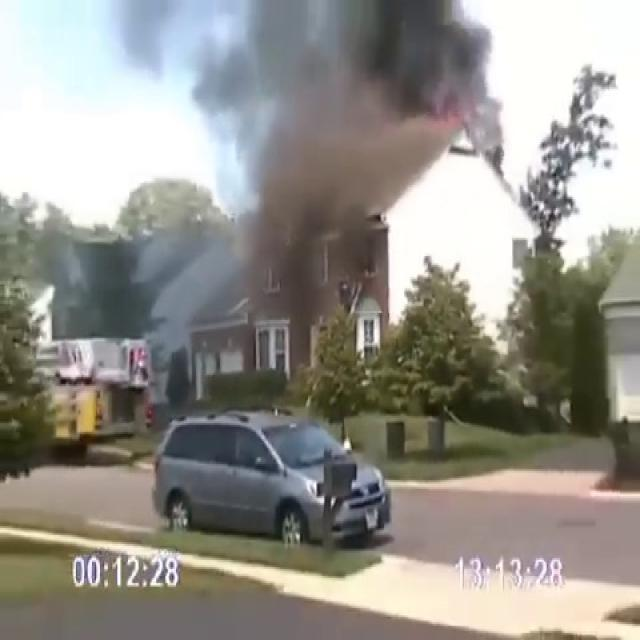Smoke: (89, 0, 520, 263)
